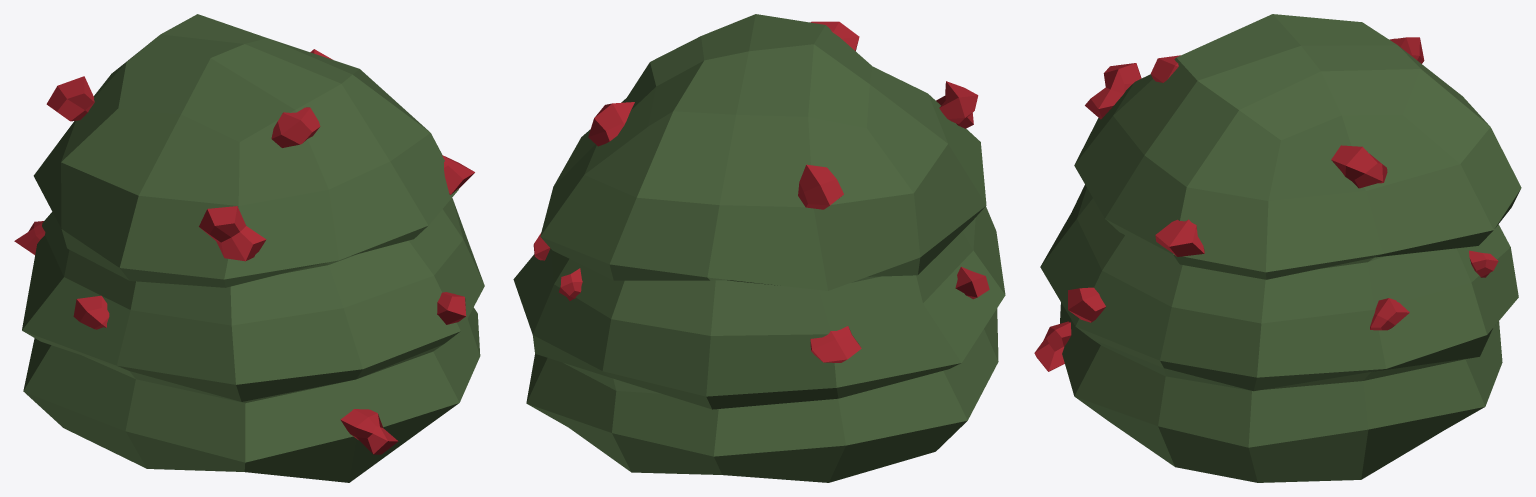
The model's file is BushBerries_2.glb.
3 views of the same model, side by side, from view 1: azimuth 30°, elevation 25°; view 2: azimuth 150°, elevation 25°; view 3: azimuth 270°, elevation 25° (orthographic). The views are drawn at different scales.
Parts seen in each view (by area): view 1: BushBerries_2; view 2: BushBerries_2; view 3: BushBerries_2.
Boxes of the visible parts, <box> form: BushBerries_2: <box>14,14,484,482</box>; BushBerries_2: <box>513,14,1005,482</box>; BushBerries_2: <box>1034,14,1521,482</box>.
Bounding box in the file's own units: 0.5355 × 0.4519 × 0.5338.
